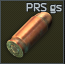9x18mm PM PRS gs: (0, 0, 65, 64)
